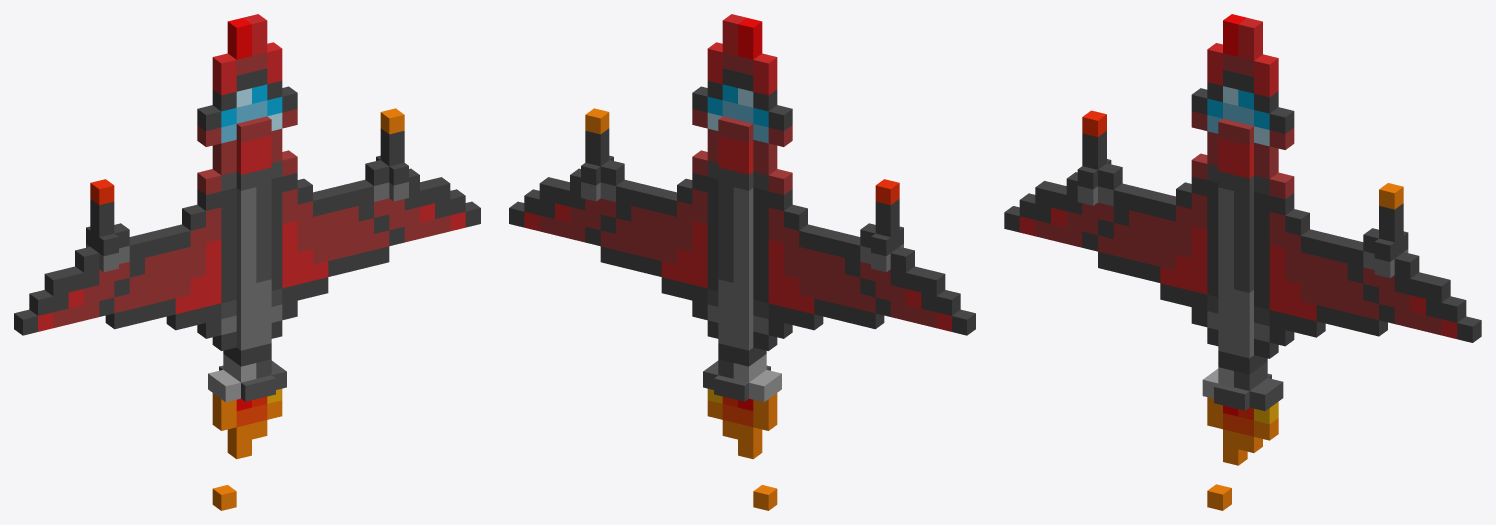
3 views of the same model, side by side, from view 1: azimuth 30°, elevation 25°; view 2: azimuth 150°, elevation 25°; view 3: azimuth 330°, elevation 25° (orthographic). The views are drawn at different scales.
Parts seen in each view (by area): view 1: generated; view 2: generated; view 3: generated.
Part boxes in pixels (x1,y1,x2,y2): generated: [14, 14, 480, 510]; generated: [509, 14, 975, 510]; generated: [1004, 14, 1481, 510].
Bounding box in the file's own units: 30 × 30 × 3.
